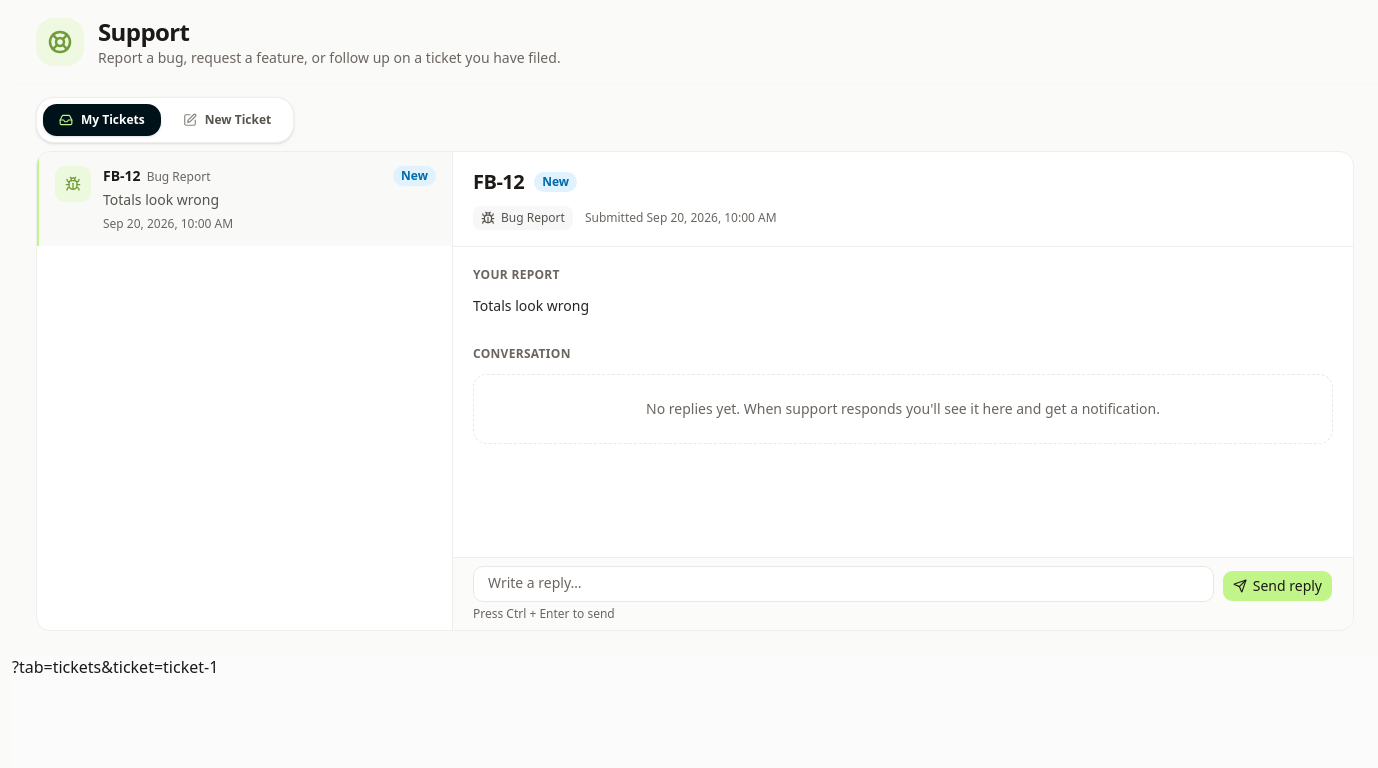
Test: SupportPage tabs › drops the open ticket from the URL when switching tabs
Expected: the heading "FB-12" is shown, top-left (473, 168), bottom-right (524, 196)
Click the tab "New Ticket".
click(227, 120)  # box top-left (167, 104), bottom-right (287, 136)
(page scrolled)
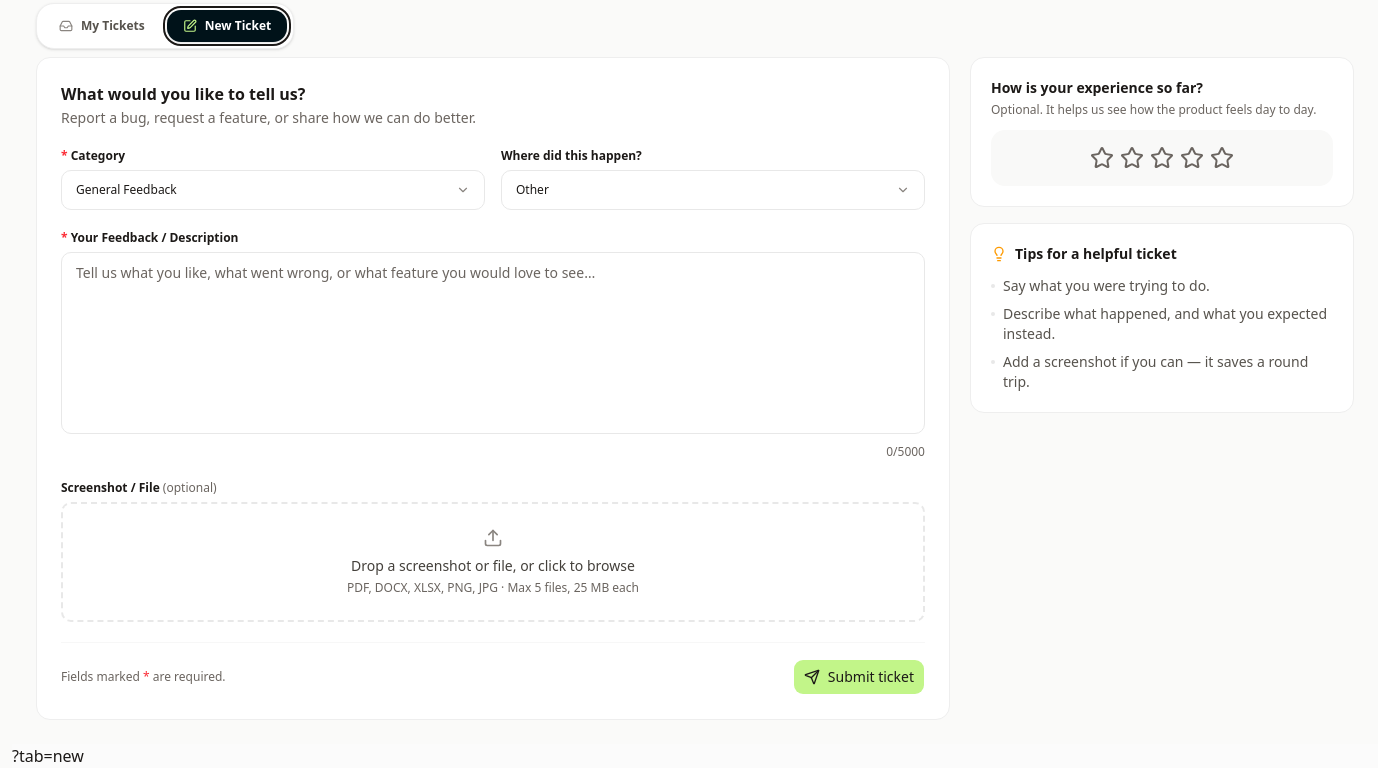
Expected: the text with test id "search" reads "?tab=new", top-left (12, 745), bottom-right (84, 767)
